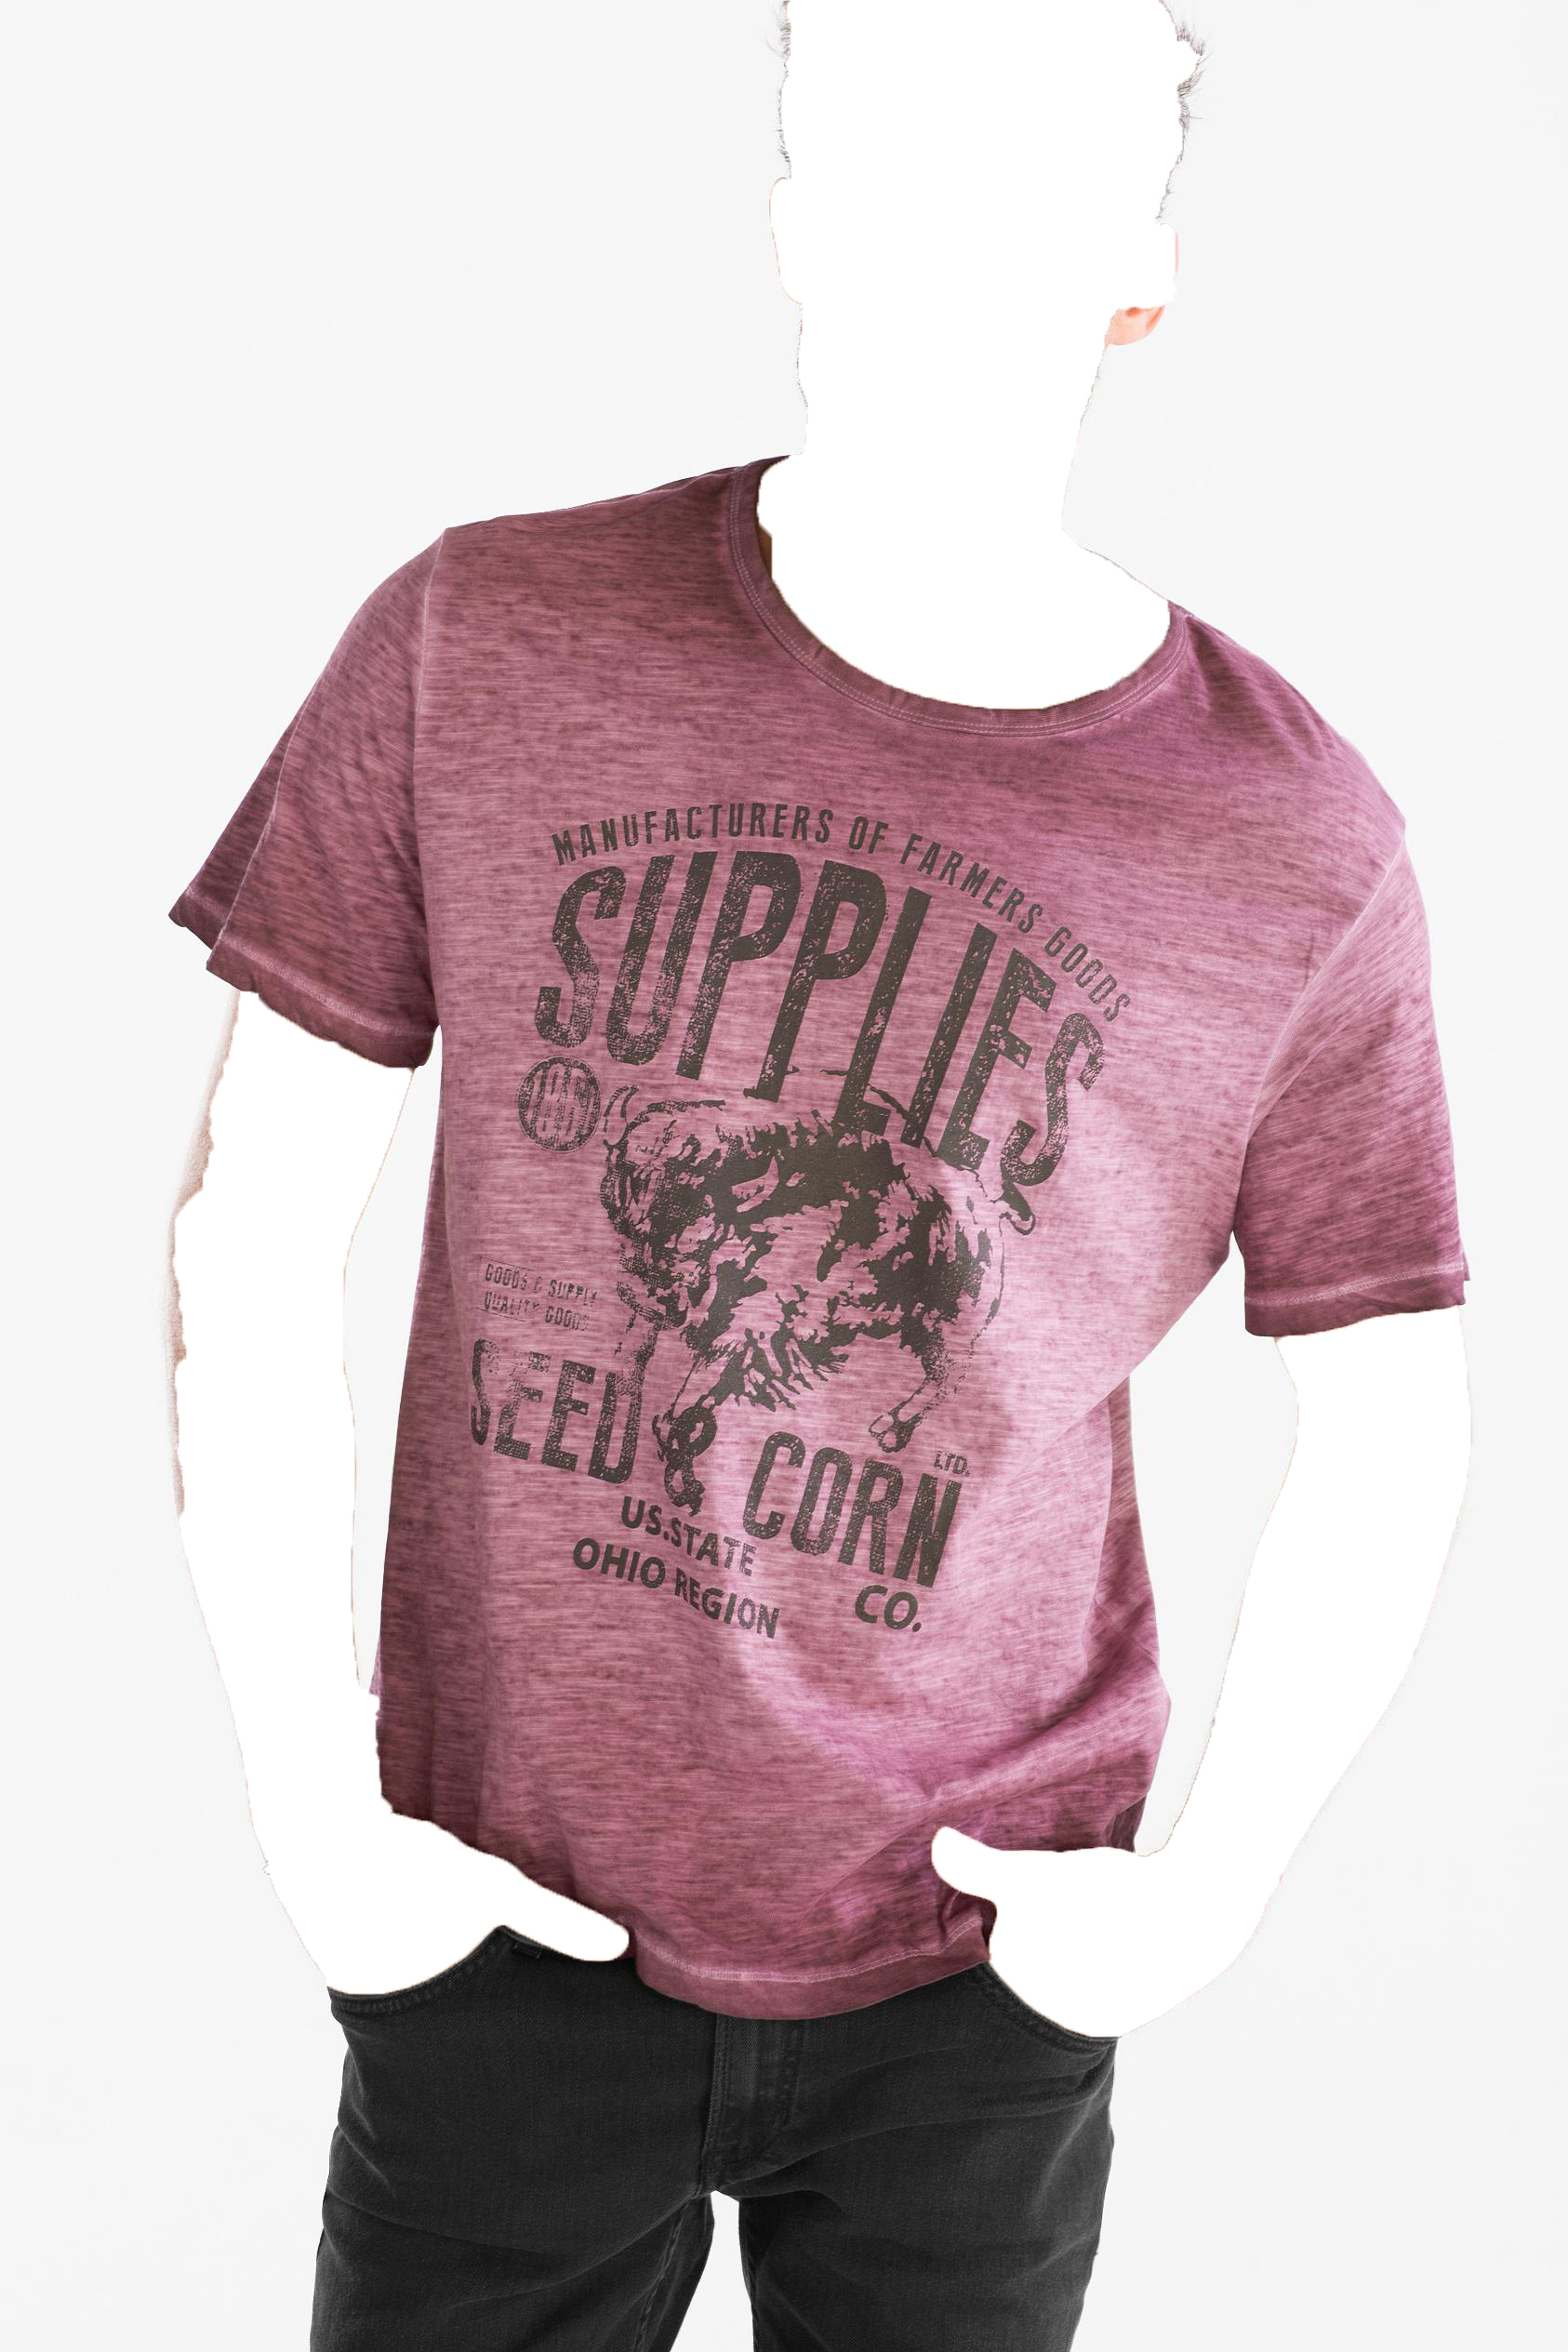teeshirt: (152, 457, 1484, 1977)
